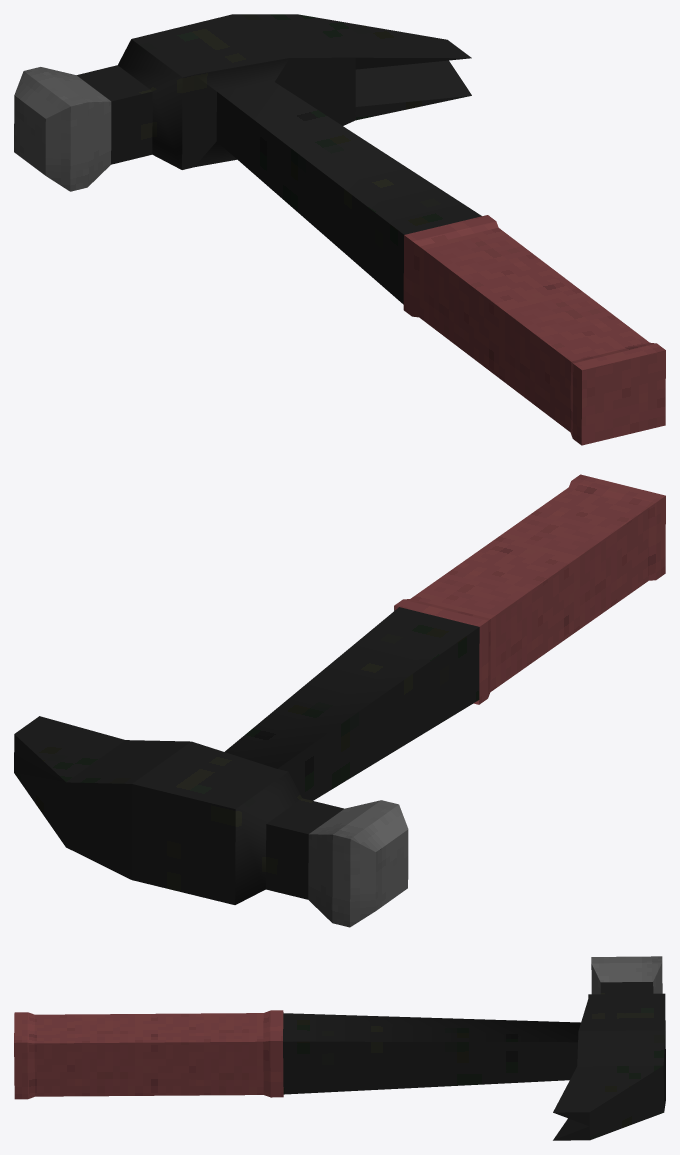
The model's file is hammer.glb.
3 views of the same model, one above another, from view 1: azimuth 30°, elevation 25°; view 2: azimuth 150°, elevation 25°; view 3: azimuth 270°, elevation 25° (orthographic). The views are drawn at different scales.
Visible parts, largest first — view 1: Cube.001; view 2: Cube.001; view 3: Cube.001.
Part boxes in pixels (x1,y1,x2,y2): Cube.001: (14,14,665,445); Cube.001: (14,474,665,927); Cube.001: (14,956,665,1140).
Size of the model in its own units: 1.74 by 0.3986 by 3.34.
1 material, 1 textured.
